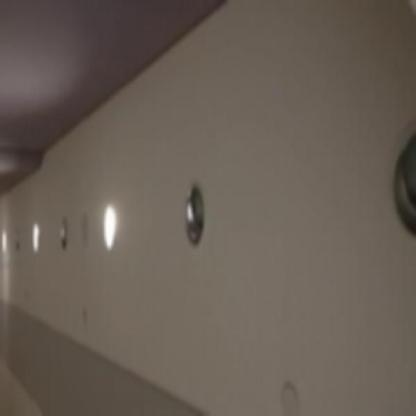light_off: (176, 154, 220, 266), (54, 212, 71, 274), (12, 219, 24, 270)
